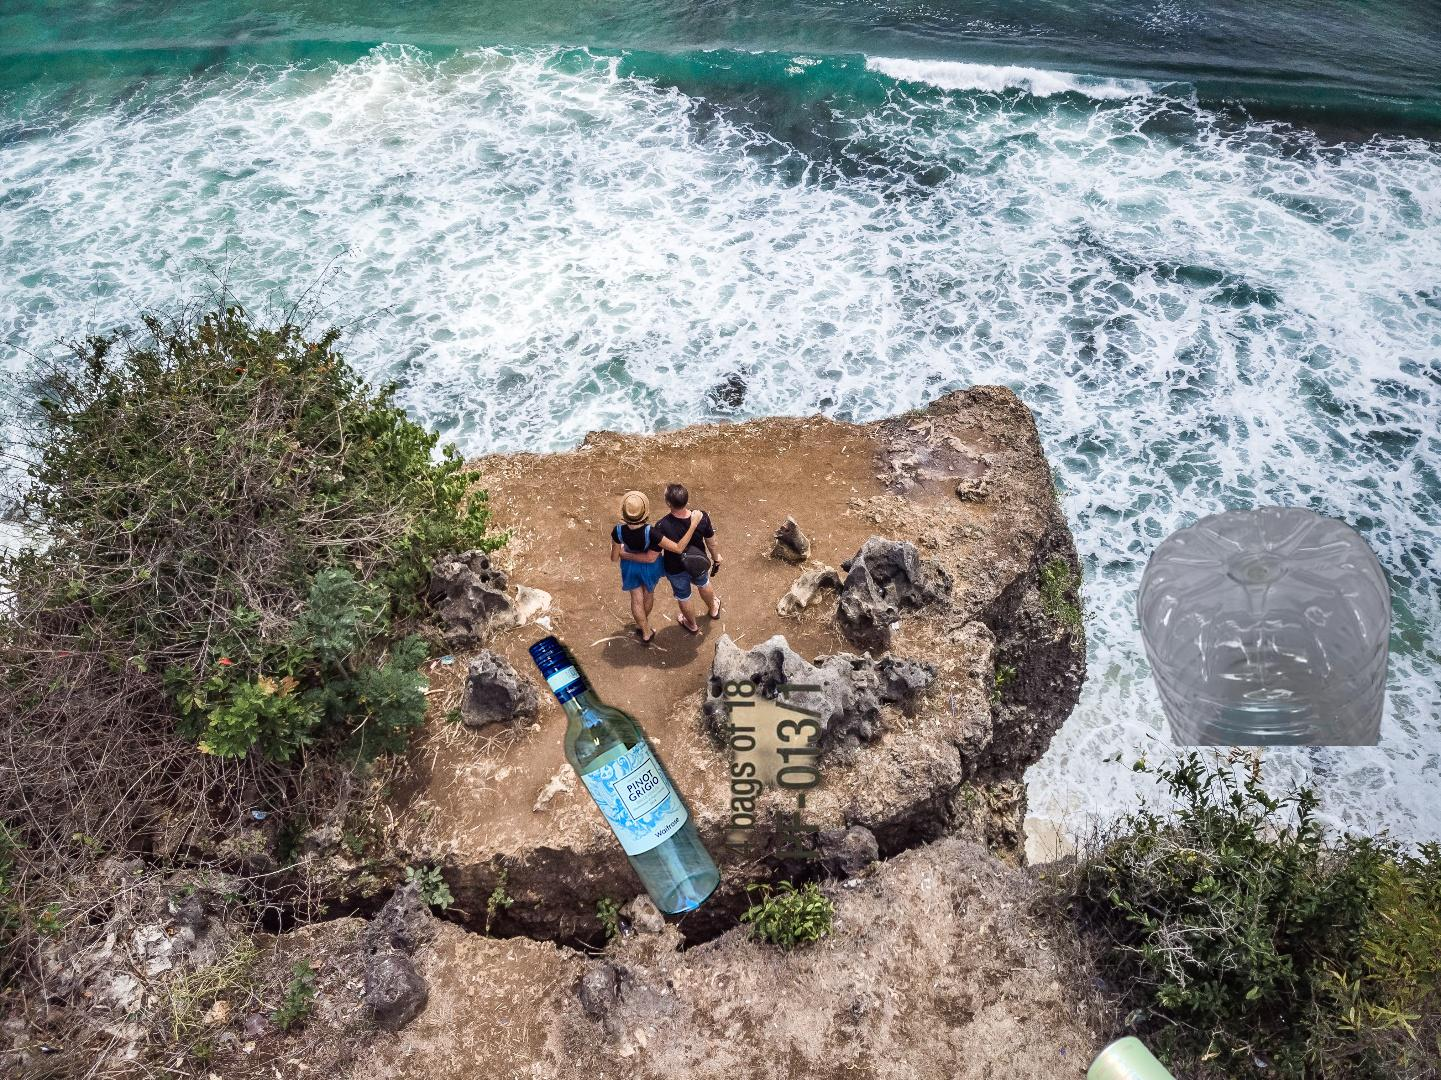glass: (523, 630, 726, 922)
metal-cans: (883, 1030, 1394, 1080)
plastic-bottles: (1134, 503, 1396, 746)
trashbox-cardboard: (718, 676, 826, 861)
